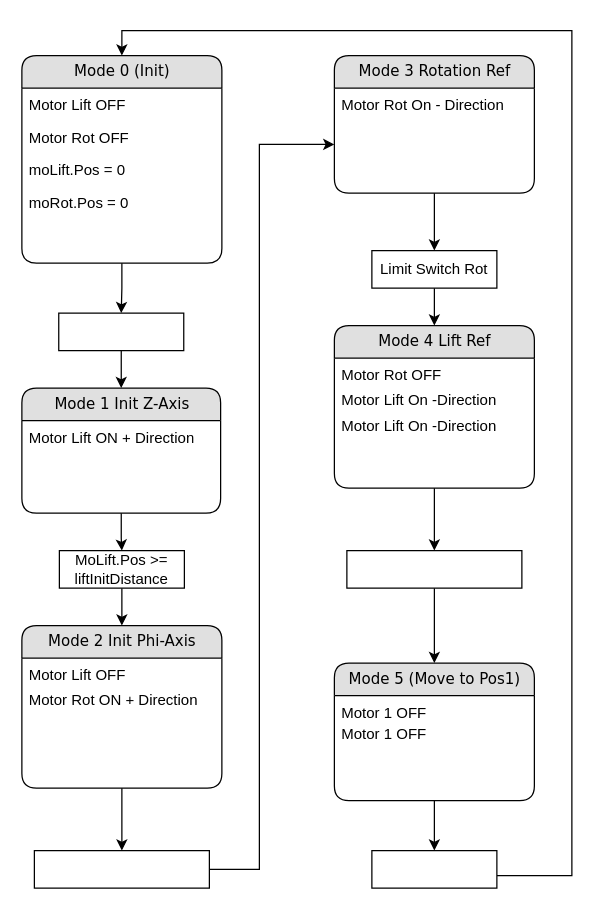
Some shapes in this 604 by 910 pixel diagram are drawn without their labels. Here are the shapes that lost their labels. From the top down, the centre of each, then its label:
the point at 121,331: Button Start
the point at 434,568: Limit Switch Lift
the point at 121,868: MoRot.Pos >= rotInitDistance
the point at 434,868: delay 500 ms
